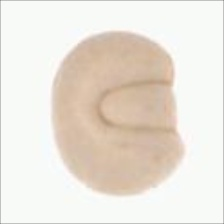L5: (93, 77, 179, 136)
L6: (49, 30, 186, 199)
